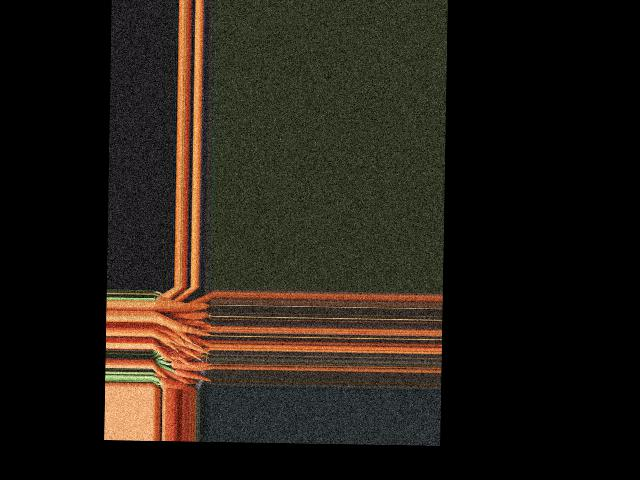carrot: (158, 379, 192, 390)
